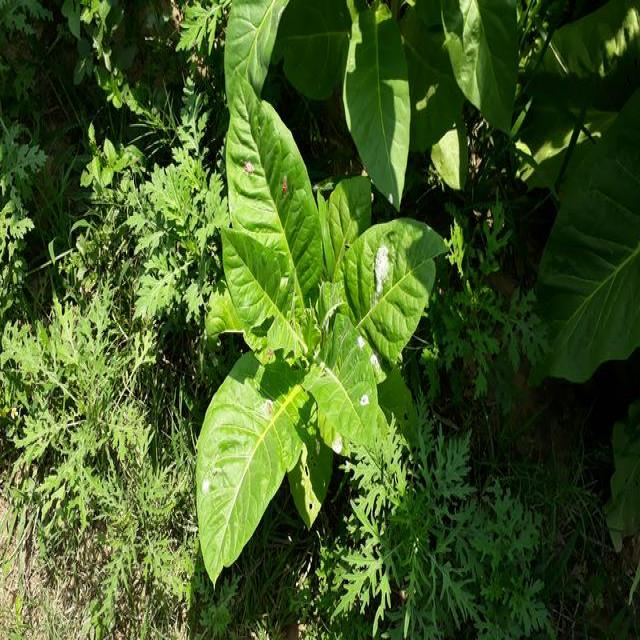crop: (196, 90, 438, 560), (227, 0, 520, 171), (529, 12, 640, 375), (604, 400, 640, 567)
